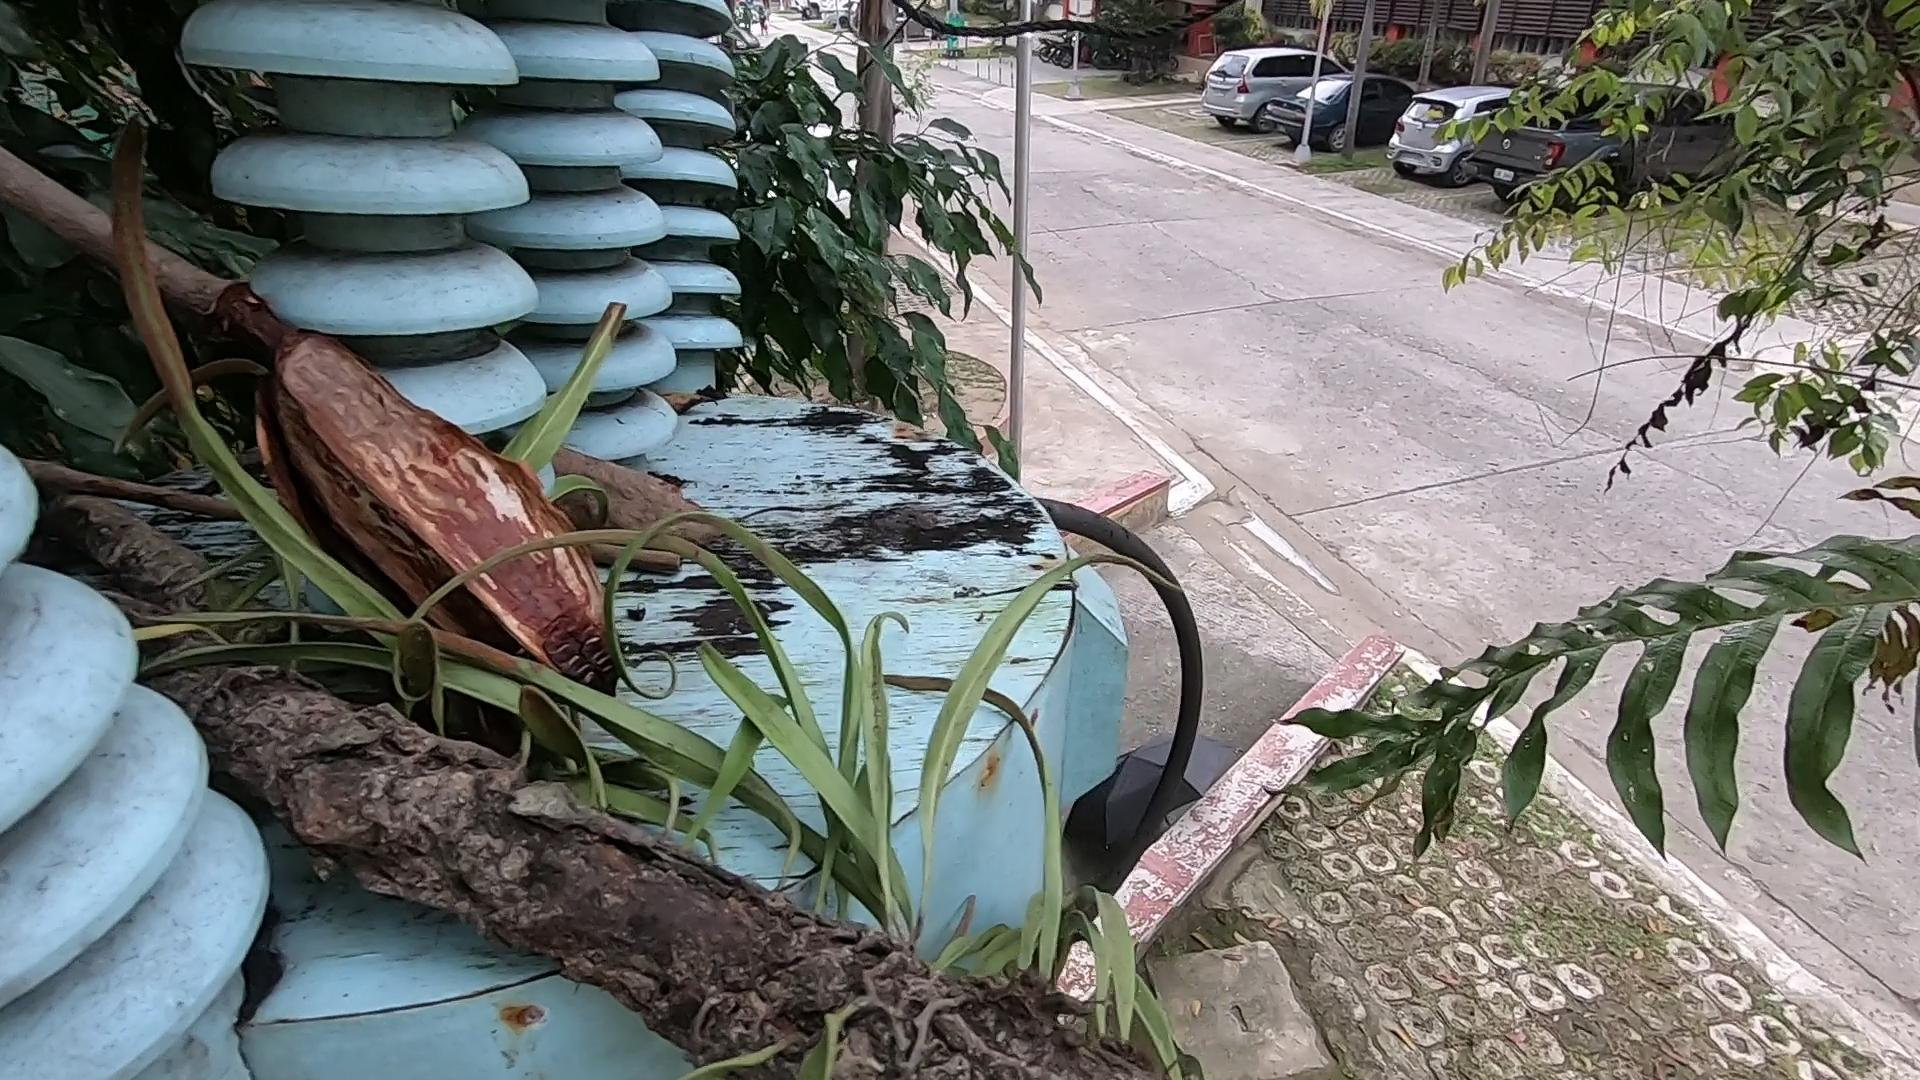branch with leaves: (142, 640, 1153, 1080)
leaf: (662, 371, 720, 433)
mahogany fruit: (231, 322, 673, 669)
tree branch: (1, 429, 680, 615), (1, 119, 260, 349)
